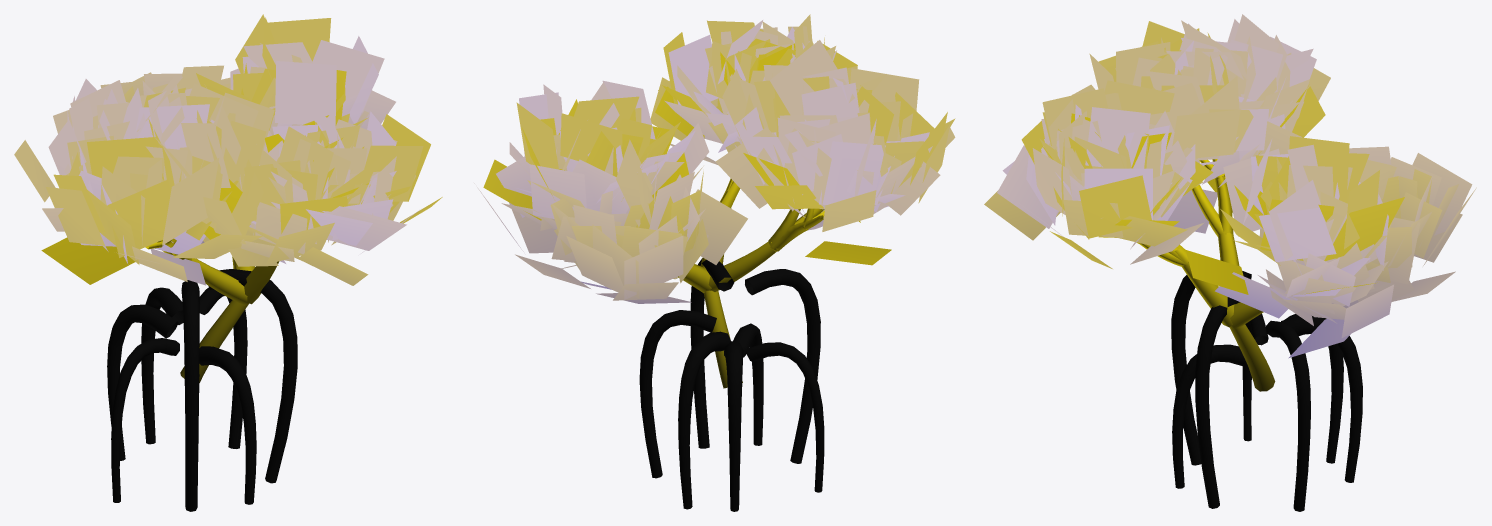
File: mangrove_young.glb
The picture shows the model from 3 angles, left to right: view 1: azimuth 30°, elevation 25°; view 2: azimuth 150°, elevation 25°; view 3: azimuth 270°, elevation 25°; orthographic projection. The views are drawn at different scales.
Visible parts, largest first — view 1: mangrove_young; view 2: mangrove_young; view 3: mangrove_young.
Part boxes in pixels (box(x1,y1,x2,y2)): mangrove_young: box(14, 14, 442, 511); mangrove_young: box(474, 14, 955, 511); mangrove_young: box(984, 14, 1476, 511).
Size of what is drawn, in the model's own units: 6.05 by 6.17 by 6.32.
